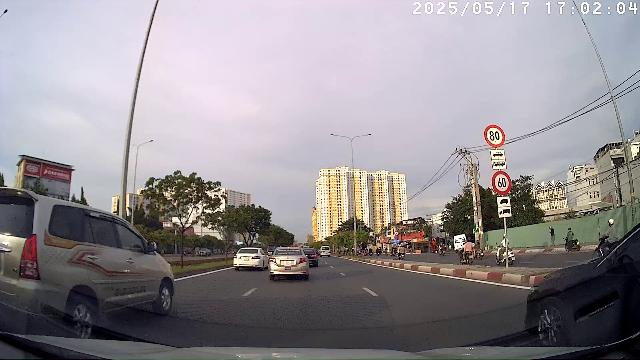127-toc-do-toi-da-60: (492, 171, 512, 195)
127-toc-do-toi-da-80: (484, 124, 505, 148)
